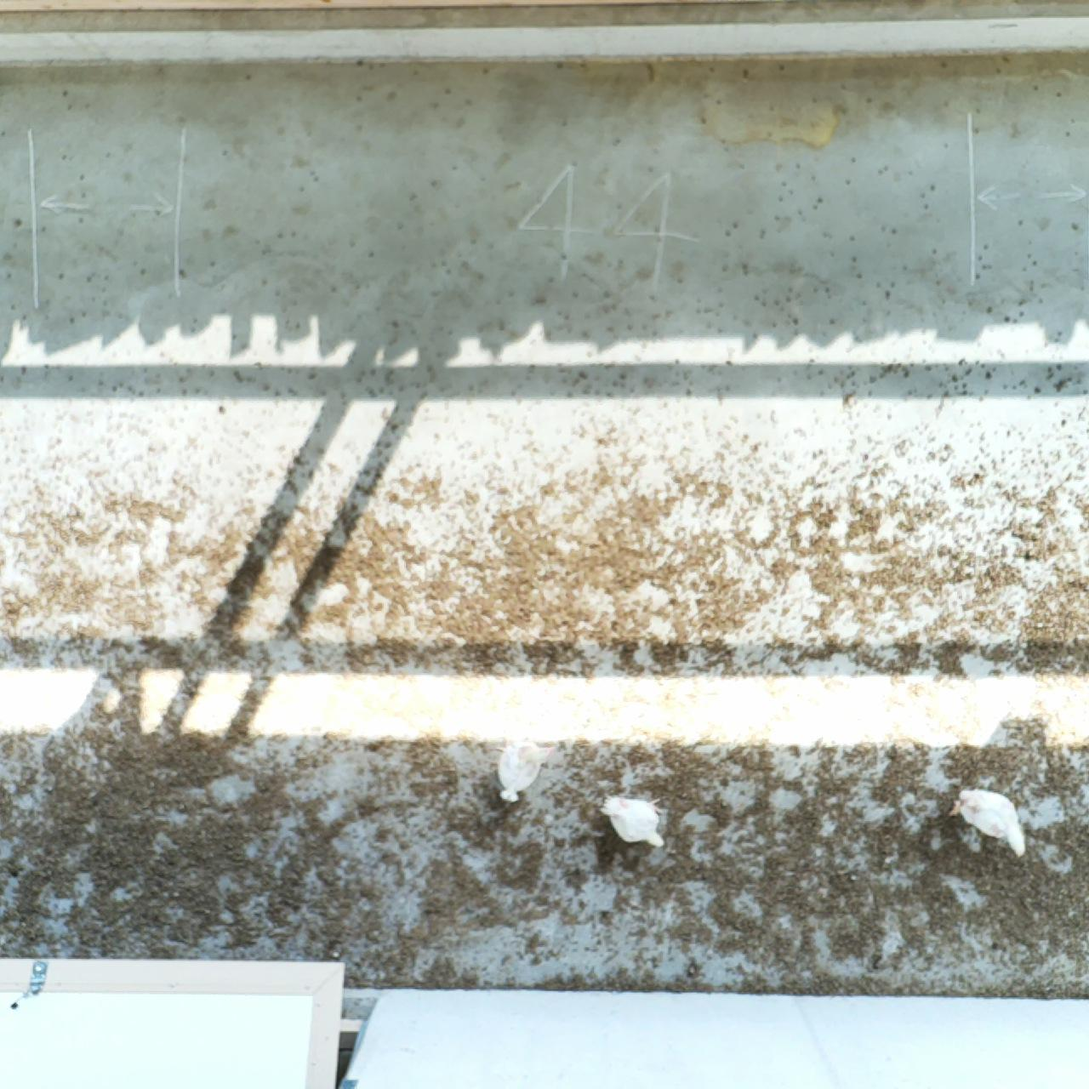chicken: (950, 786, 1029, 859), (494, 731, 556, 804), (603, 793, 667, 851)
